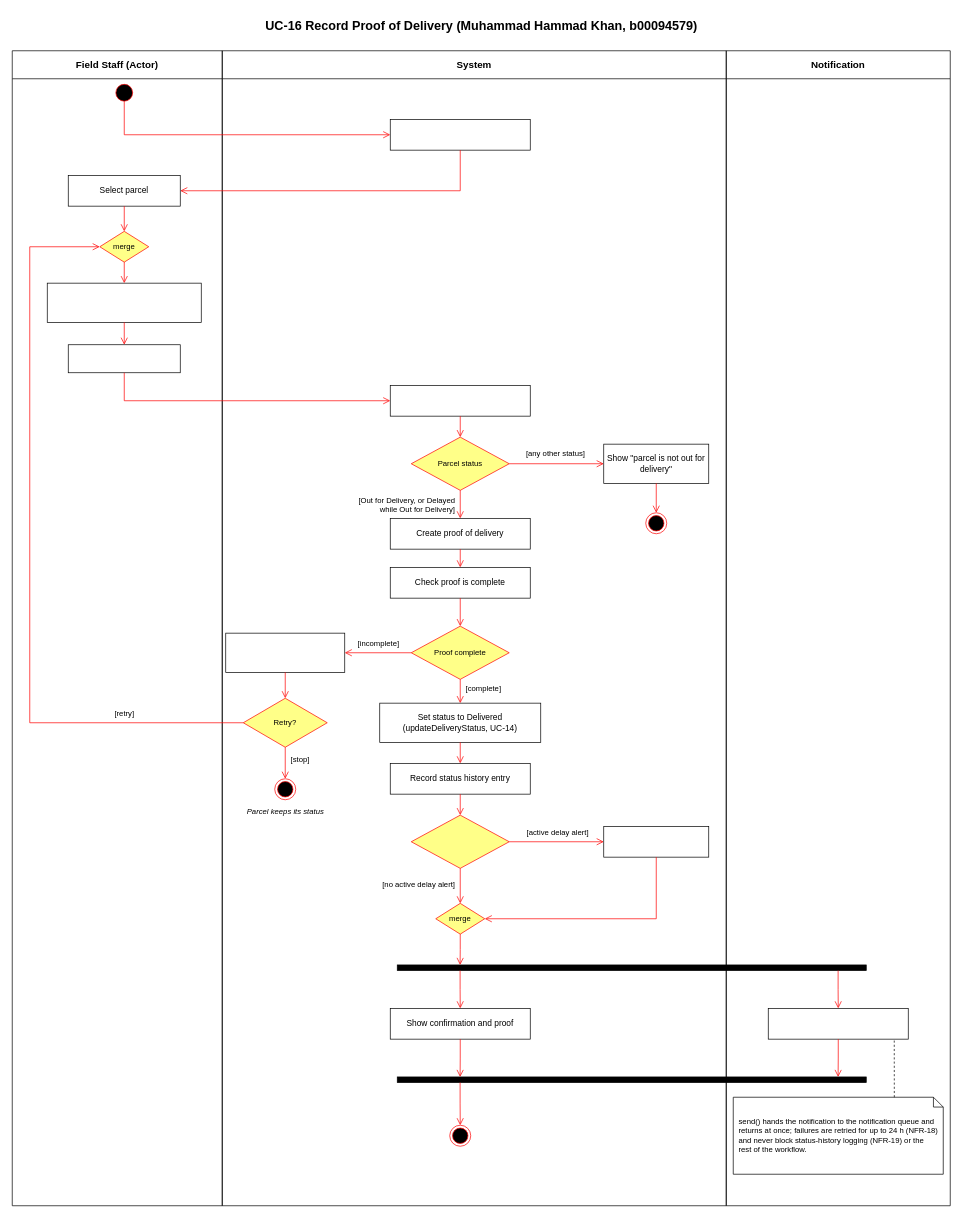
This 963x1218 diagram has some shape labels left out. The shapes that lost their labels are listed below. From the top down, each one's centre as x and y in pixels, then its label:
point (460, 134): Show assigned parcels
point (124, 302): Enter recipient name, signature and Emirates ID
point (124, 358): Submit
point (460, 400): Check parcel status
point (285, 652): Discard proof and show "proof incomplete"
point (460, 841): Active delay alert
point (656, 841): Resolve delay alert
point (838, 1023): Send Delivered notification
